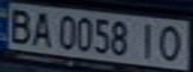0: (54, 12, 78, 51), (72, 15, 93, 53)
5: (90, 16, 112, 55)
8: (109, 18, 133, 57)
A: (27, 9, 57, 47)
B: (3, 6, 36, 44)
I: (133, 20, 160, 61)
O: (154, 22, 187, 63)
